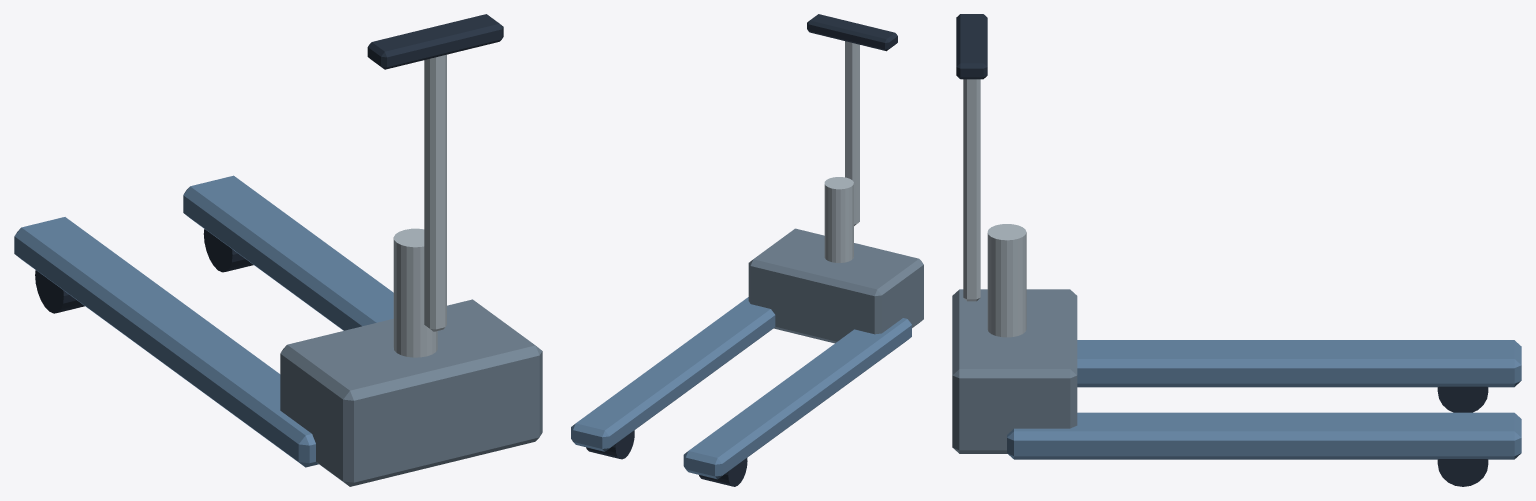
File: logistics_03.glb
3 views of the same model, side by side, from view 1: azimuth 30°, elevation 25°; view 2: azimuth 150°, elevation 25°; view 3: azimuth 270°, elevation 25° (orthographic). The views are drawn at different scales.
Parts seen in each view (by area): view 1: JackBody, Fork (×2), PullHandleStem, HydraulicRam, PullHandle, ForkRoller (×2); view 2: Fork (×2), JackBody, HydraulicRam, PullHandleStem, PullHandle, ForkRoller (×2); view 3: Fork (×2), JackBody, HydraulicRam, PullHandleStem, ForkRoller (×2), PullHandle.
Boxes of the visible parts, x1,y1,x2,y2 form: JackBody: [280, 299, 542, 486]; Fork (×2): [14, 175, 393, 467]; PullHandleStem: [424, 54, 446, 331]; HydraulicRam: [393, 228, 437, 357]; PullHandle: [367, 14, 503, 69]; ForkRoller (×2): [35, 229, 253, 313]; Fork (×2): [571, 297, 911, 479]; JackBody: [748, 228, 923, 343]; HydraulicRam: [824, 177, 853, 262]; PullHandleStem: [845, 41, 859, 225]; PullHandle: [807, 14, 897, 51]; ForkRoller (×2): [586, 430, 747, 486]; Fork (×2): [1007, 340, 1521, 459]; JackBody: [952, 289, 1077, 453]; HydraulicRam: [987, 224, 1026, 337]; PullHandleStem: [963, 79, 980, 301]; ForkRoller (×2): [1437, 386, 1488, 486]; PullHandle: [956, 14, 987, 79].
Size of the model in its own units: 0.59 by 1.14 by 1.46.
